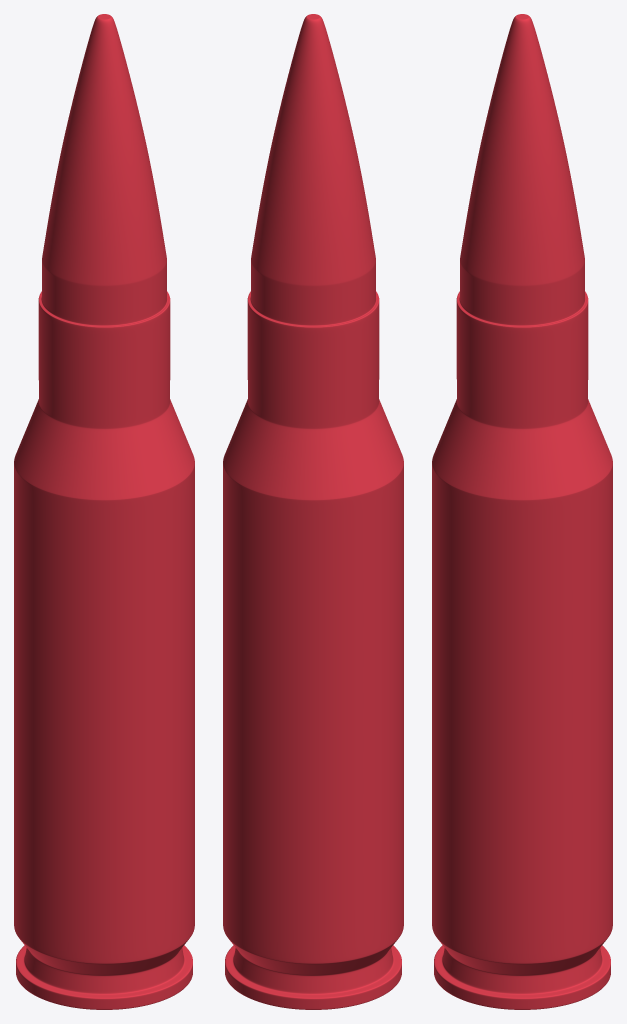
3 views of the same model, side by side, from view 1: azimuth 30°, elevation 25°; view 2: azimuth 150°, elevation 25°; view 3: azimuth 270°, elevation 25° (orthographic).
Visible parts, largest first — view 1: Cylinder; view 2: Cylinder; view 3: Cylinder.
Part boxes in pixels (x1=…): Cylinder: x1=14, y1=14, x2=194, y2=1009; Cylinder: x1=223, y1=14, x2=403, y2=1009; Cylinder: x1=432, y1=14, x2=612, y2=1009.
Bounding box in the file's own units: 0.343 × 2 × 0.343.
